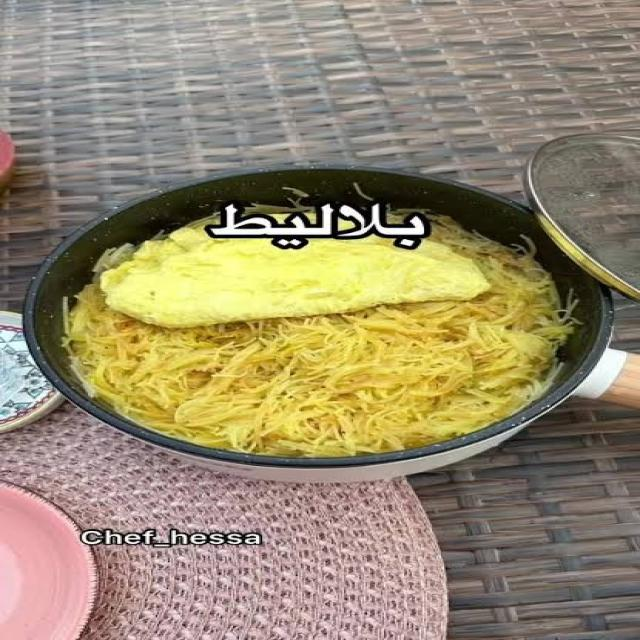Balaleet: (90, 184, 555, 477)
